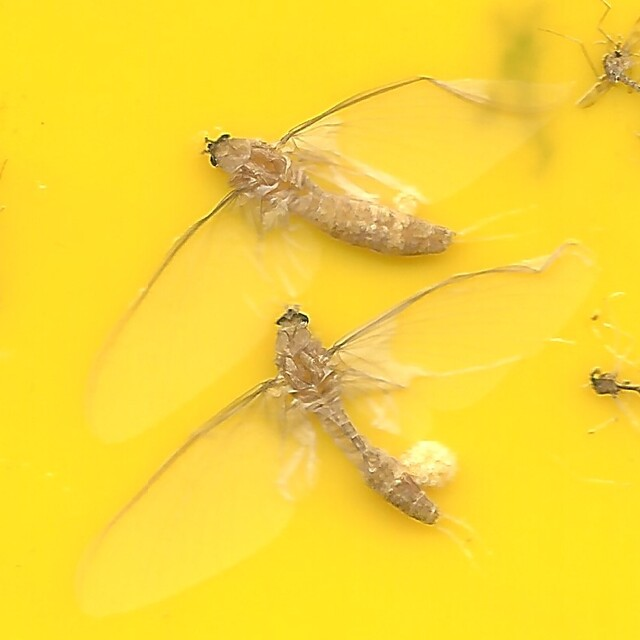Ephemeroptera: (79, 78, 561, 416), (91, 250, 558, 562)
